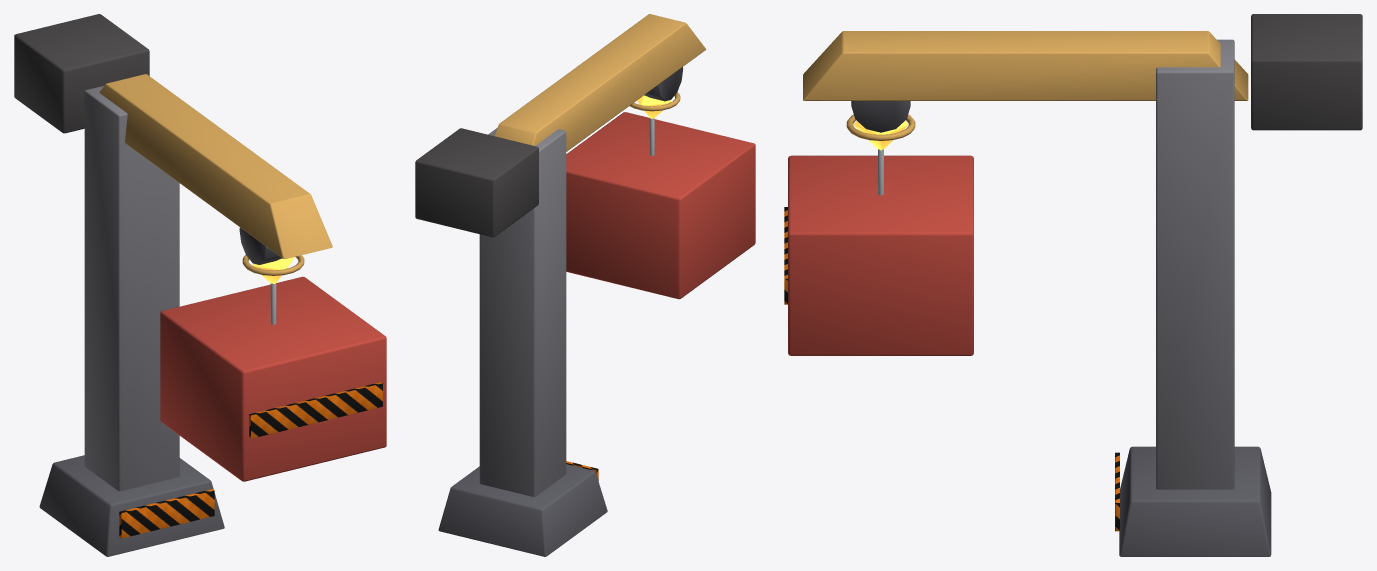
Rendered from crane_cargo_rig.glb.
3 renders of one model, left to right at view 1: azimuth 30°, elevation 25°; view 2: azimuth 150°, elevation 25°; view 3: azimuth 270°, elevation 25°, orthographic. The views are drawn at different scales.
Visible parts, largest first — view 1: CraneCargo_A1_CrimsonSiege, PropTower_A1_CharcoalArmor, PropTower_A1_HeatBrass, PropTower_A1_BurnedScrap, PropTower_A1_GunmetalFrame, CraneCargo_A1_Hazard, PropTower_A1_Hazard, CraneTrigger_A1_HeatBrass; view 2: CraneCargo_A1_CrimsonSiege, PropTower_A1_CharcoalArmor, PropTower_A1_HeatBrass, PropTower_A1_BurnedScrap, PropTower_A1_GunmetalFrame; view 3: CraneCargo_A1_CrimsonSiege, PropTower_A1_CharcoalArmor, PropTower_A1_HeatBrass, PropTower_A1_GunmetalFrame, PropTower_A1_BurnedScrap.
Part boxes in pixels (x1=…): CraneCargo_A1_CrimsonSiege: x1=160, y1=276, x2=386, y2=481; PropTower_A1_CharcoalArmor: x1=84, y1=86, x2=179, y2=491; PropTower_A1_HeatBrass: x1=84, y1=74, x2=332, y2=259; PropTower_A1_BurnedScrap: x1=14, y1=14, x2=149, y2=133; PropTower_A1_GunmetalFrame: x1=39, y1=227, x2=282, y2=556; CraneCargo_A1_Hazard: x1=249, y1=382, x2=382, y2=438; PropTower_A1_Hazard: x1=119, y1=489, x2=214, y2=538; CraneTrigger_A1_HeatBrass: x1=242, y1=255, x2=304, y2=275; CraneCargo_A1_CrimsonSiege: x1=566, y1=112, x2=755, y2=299; PropTower_A1_CharcoalArmor: x1=479, y1=128, x2=566, y2=496; PropTower_A1_HeatBrass: x1=494, y1=14, x2=706, y2=151; PropTower_A1_BurnedScrap: x1=415, y1=128, x2=538, y2=237; PropTower_A1_GunmetalFrame: x1=438, y1=67, x2=683, y2=556; CraneCargo_A1_CrimsonSiege: x1=788, y1=155, x2=973, y2=355; PropTower_A1_CharcoalArmor: x1=1156, y1=39, x2=1234, y2=489; PropTower_A1_HeatBrass: x1=803, y1=31, x2=1248, y2=100; PropTower_A1_GunmetalFrame: x1=851, y1=101, x2=1271, y2=556; PropTower_A1_BurnedScrap: x1=1251, y1=14, x2=1362, y2=130.
Size of the model in its own units: 2.25 by 6.53 by 7.
8 materials, 1 textured.
